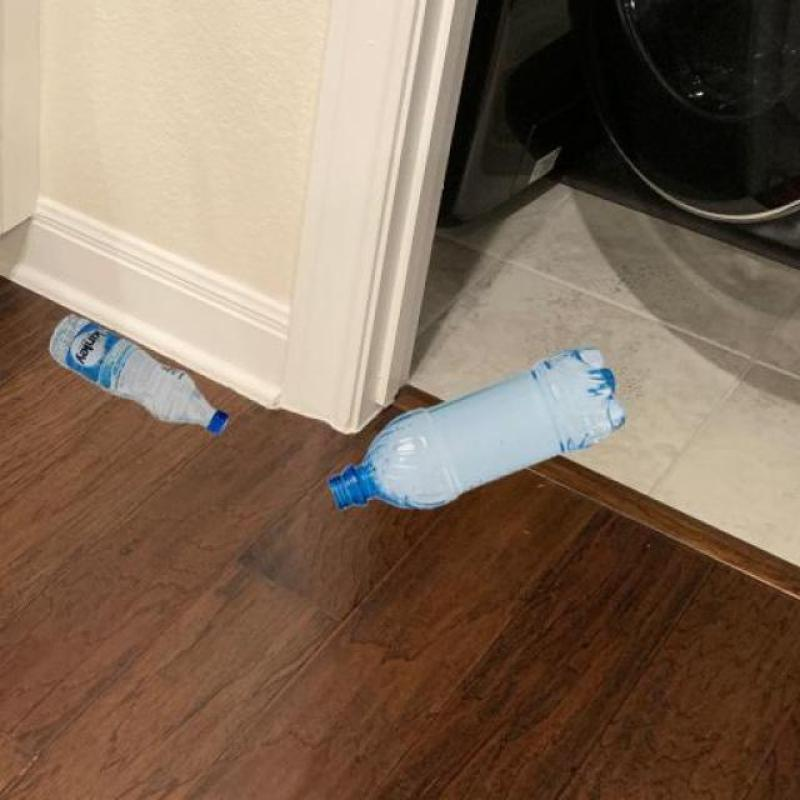botella: (327, 343, 625, 509), (49, 312, 231, 436)
